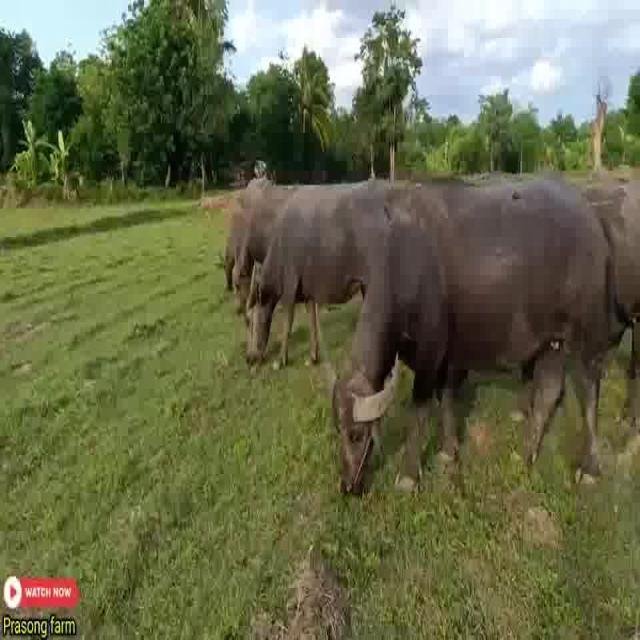buffalo: (513, 143, 640, 473), (221, 167, 325, 373)
